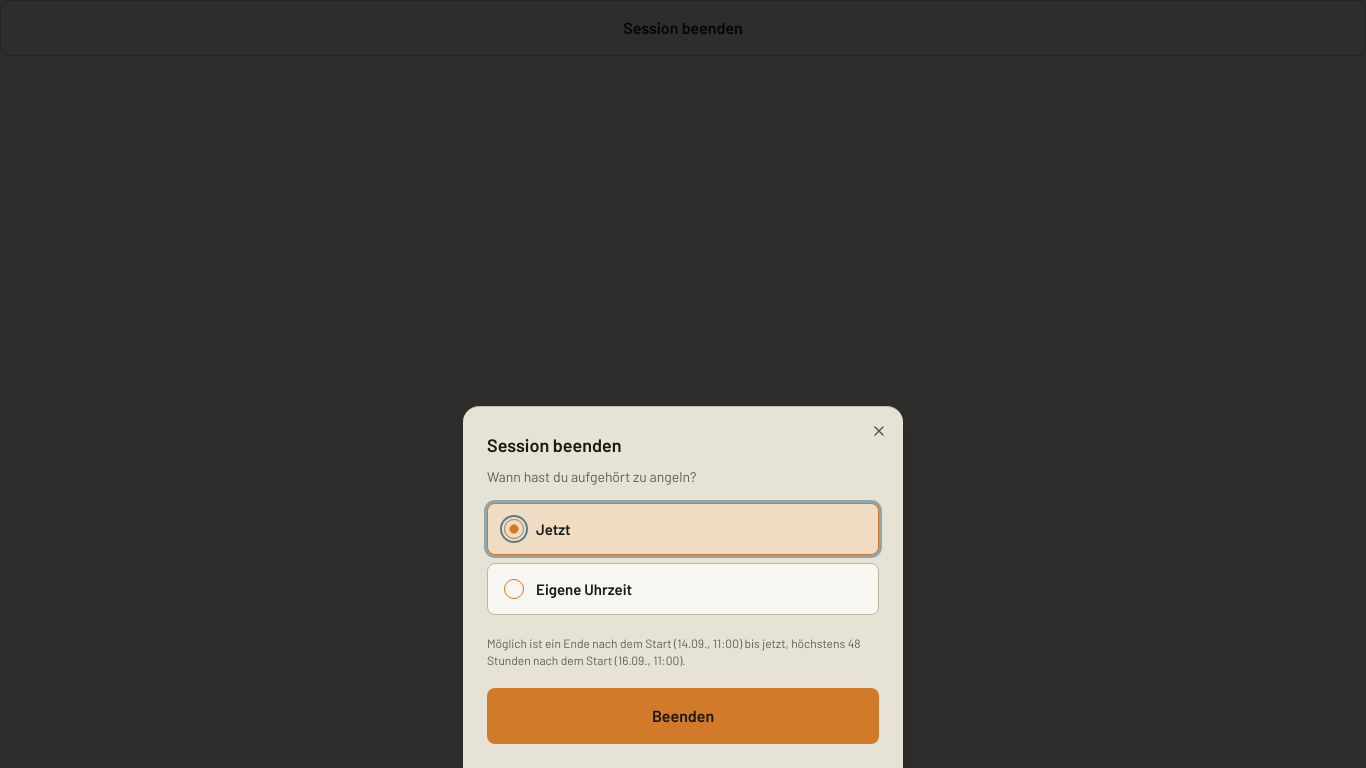
Scenario: EndSessionSheet › shows a general message and a lost connection as a warning notice
The width and height of the screenshot is (1366, 768).
Click the button "Beenden".
click(683, 716)  # box top-left (487, 688), bottom-right (879, 744)
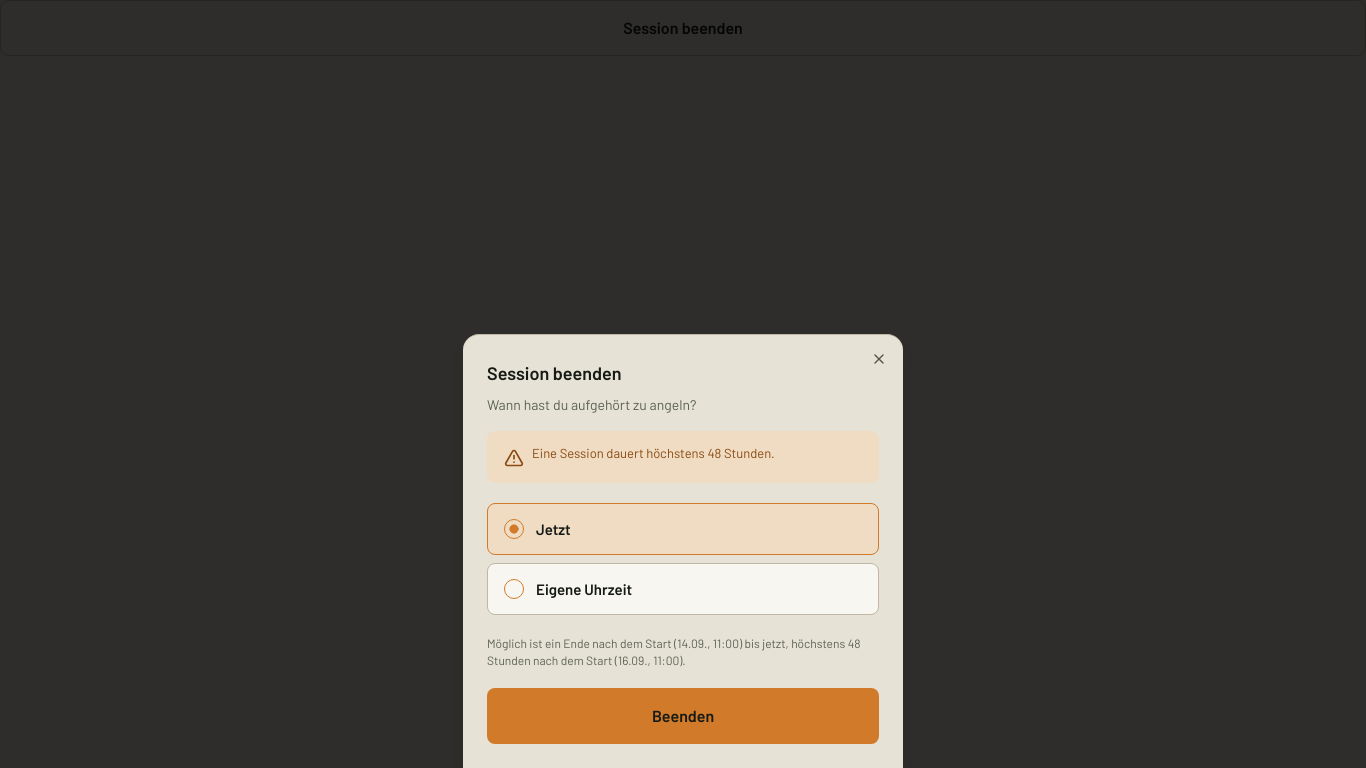
Expected: the message reads "Eine Session dauert höchstens 48 Stunden.", top-left (532, 445), bottom-right (775, 461)
Click the button "Beenden".
click(683, 716)  # box top-left (487, 688), bottom-right (879, 744)
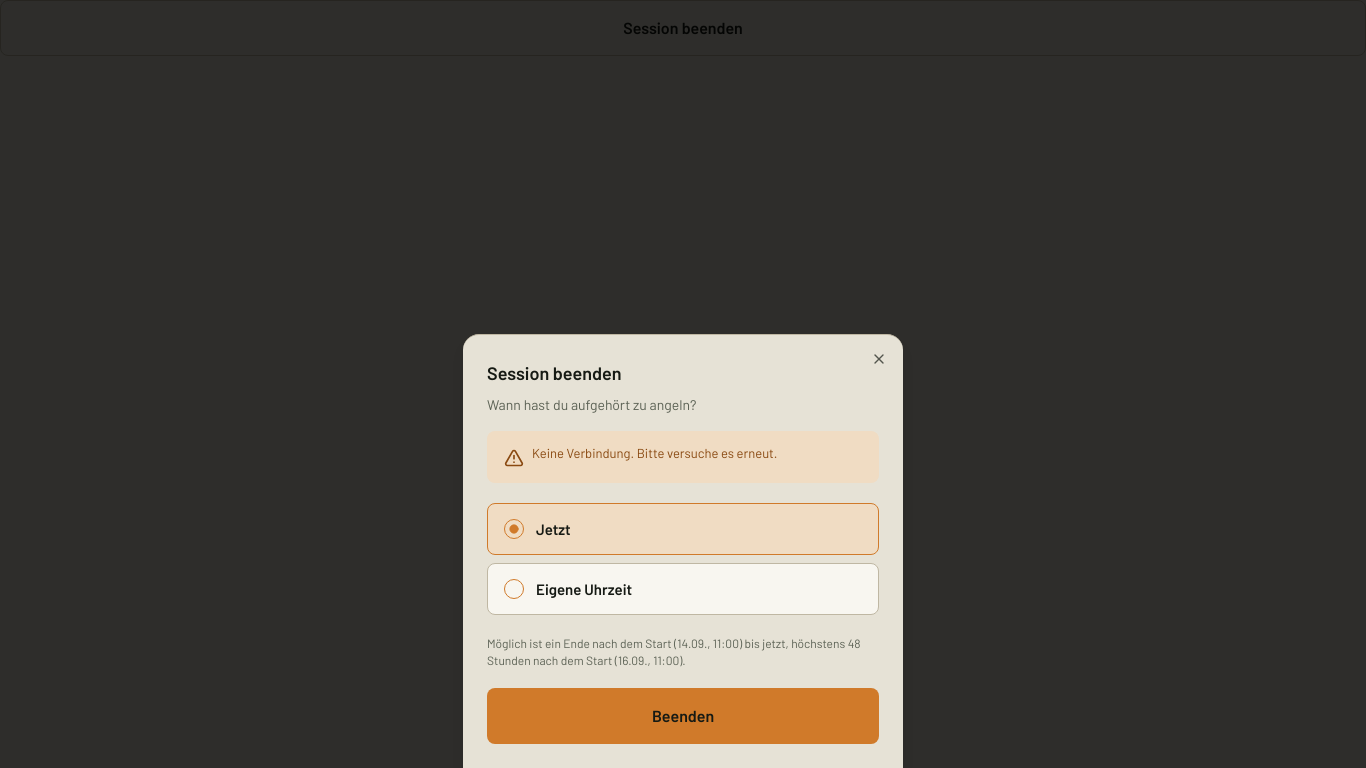
Expected: the message shows "Keine Verbindung.", top-left (532, 445), bottom-right (778, 461)
